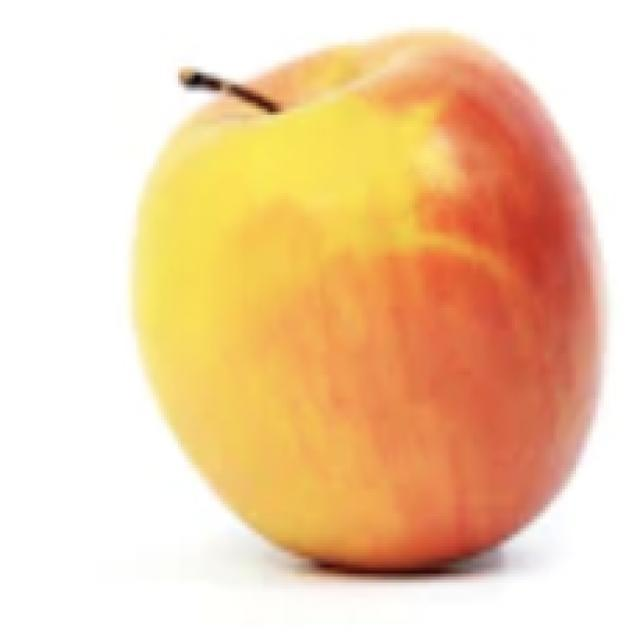Fresh Apple: (140, 45, 605, 562)
